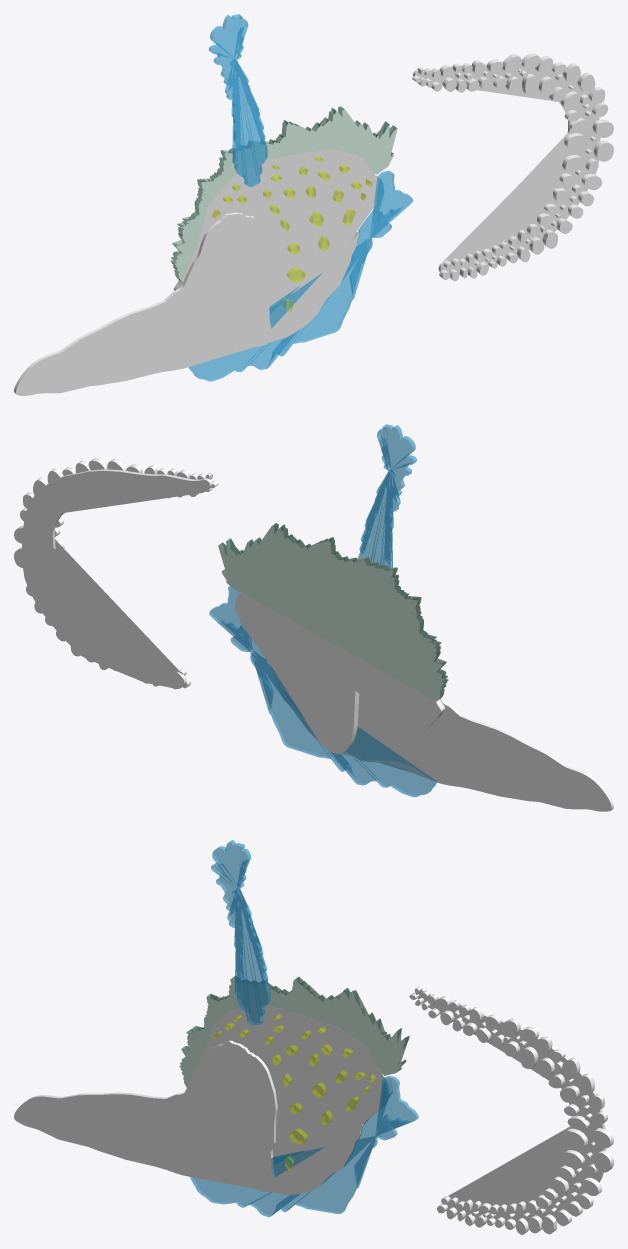
3 renders of one model, top to bottom at view 1: azimuth 30°, elevation 25°; view 2: azimuth 150°, elevation 25°; view 3: azimuth 330°, elevation 25°, orthographic.
Visible parts, largest first — view 1: 캡_1_3, 캡_1_4, 캡_1_30, 캡_1_2, Cap_1, 캡_2_2, 캡_1, 캡_2, Cap_2, Edge, Path_3, 캡_2_3 (+2 smaller); view 2: Cap_2, 캡_2_30, 캡_2_3, 캡_2_4, 캡_2_2, 캡_1_2, 캡_2, 캡_1, Cap_1, Edge, 캡_1_30, Path_4 (+2 smaller); view 3: 캡_1_3, 캡_1_4, 캡_1_30, 캡_1_2, Cap_1, 캡_2_2, 캡_1, 캡_2, Cap_2, Path_1, Path_3, Edge (+2 smaller).
Boxes of the visible parts, x1,y1,x2,y2 form: 캡_1_3: [16, 214, 359, 395]; 캡_1_4: [181, 149, 378, 309]; 캡_1_30: [415, 65, 600, 273]; 캡_1_2: [189, 172, 412, 381]; Cap_1: [174, 109, 397, 282]; 캡_2_2: [189, 171, 410, 379]; 캡_1: [211, 16, 267, 186]; 캡_2: [209, 14, 264, 184]; Cap_2: [170, 106, 393, 279]; Edge: [171, 106, 396, 281]; Path_3: [14, 212, 358, 394]; 캡_2_3: [270, 232, 356, 328]; Cap_2: [218, 526, 444, 701]; 캡_2_30: [22, 470, 210, 688]; 캡_2_3: [267, 661, 611, 811]; 캡_2_4: [234, 592, 440, 753]; 캡_2_2: [209, 586, 436, 796]; 캡_1_2: [211, 587, 436, 795]; 캡_2: [358, 426, 413, 567]; 캡_1: [360, 424, 416, 567]; Cap_1: [222, 523, 448, 698]; Edge: [219, 523, 447, 699]; 캡_1_30: [55, 478, 203, 674]; Path_4: [209, 586, 436, 796]; 캡_1_3: [14, 1042, 361, 1194]; 캡_1_4: [191, 1003, 384, 1158]; 캡_1_30: [417, 990, 603, 1222]; 캡_1_2: [190, 1077, 416, 1216]; Cap_1: [179, 979, 405, 1087]; 캡_2_2: [193, 1076, 418, 1215]; 캡_1: [211, 842, 267, 1024]; 캡_2: [214, 840, 270, 1022]; Cap_2: [185, 976, 409, 1070]; Path_1: [211, 840, 270, 1024]; Path_3: [27, 1040, 363, 1182]; Edge: [180, 976, 409, 1071].
Size of the model in its own units: 50.26 by 29.28 by 1.64.
